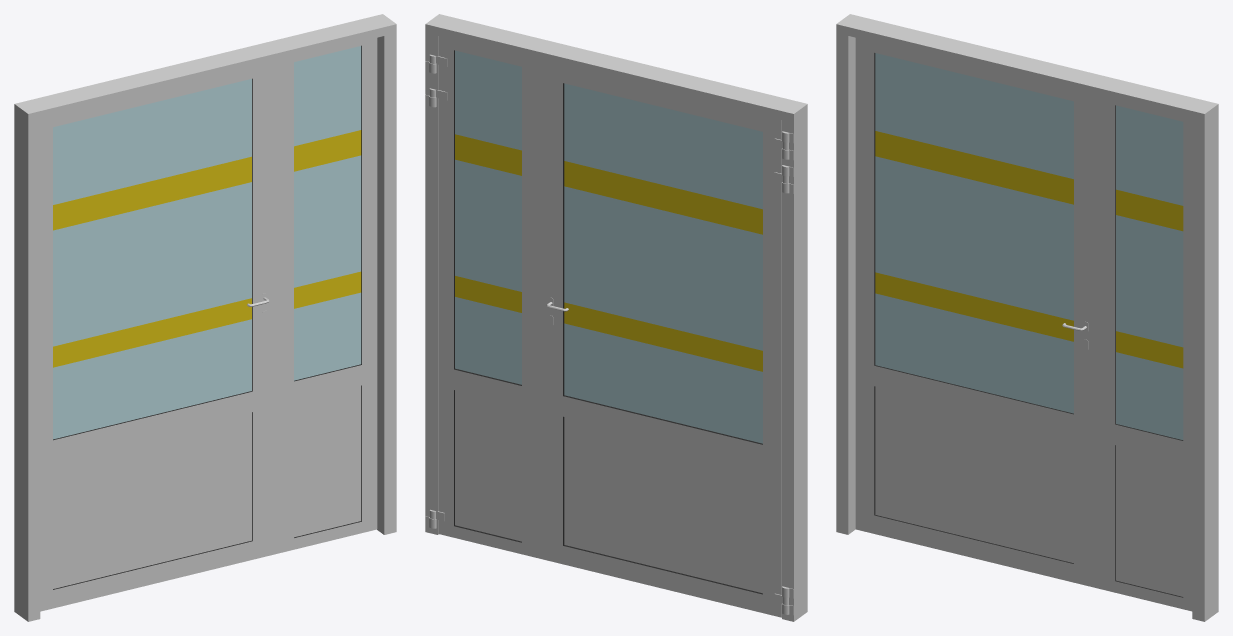
File: White Doors 2.fbx
3 renders of one model, left to right at view 1: azimuth 30°, elevation 25°; view 2: azimuth 150°, elevation 25°; view 3: azimuth 330°, elevation 25°, orthographic.
Visible parts, largest first — view 1: DoorWing0P.004, DoorWing0L.002, DoorFrame0.004; view 2: DoorWing0P.004, DoorWing0L.002, DoorFrame0.004; view 3: DoorWing0P.004, DoorWing0L.002, DoorFrame0.004.
Boxes of the visible parts, x1,y1,x2,y2 form: DoorWing0P.004: (40, 63, 270, 611); DoorWing0L.002: (270, 38, 377, 555); DoorFrame0.004: (14, 14, 396, 621); DoorWing0P.004: (545, 62, 788, 617); DoorWing0L.002: (429, 36, 545, 559); DoorFrame0.004: (425, 14, 807, 621); DoorWing0P.004: (855, 38, 1091, 586); DoorWing0L.002: (1092, 95, 1192, 611); DoorFrame0.004: (836, 14, 1218, 621).
Bounding box in the file's own units: 155 × 204 × 13.34.
